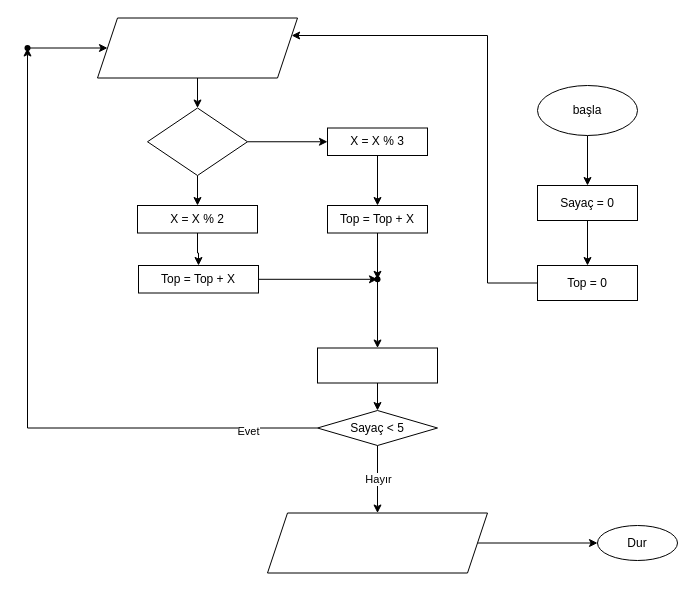
This 695x590 diagram has some shape labels left out. The box of each missing label's shape, as (x1, y1, x2, y2) in pixels:
giriş "Ürün Fiyatını Giriniz :", X: (96, 17, 298, 78)
Sayaç = Sayaç + 1: (316, 347, 438, 383)
X > 50: (146, 107, 248, 176)
çıkış "Toplam Komisyon Miktarı :" , Top: (266, 512, 488, 573)
